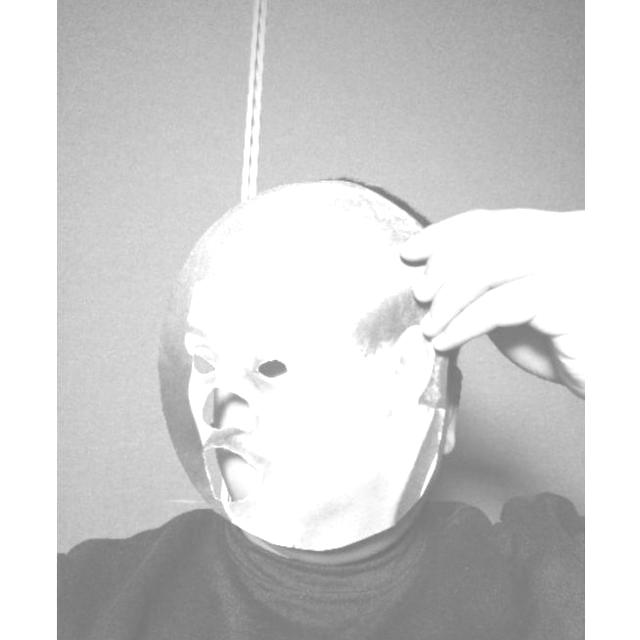fake: (150, 177, 457, 556)
